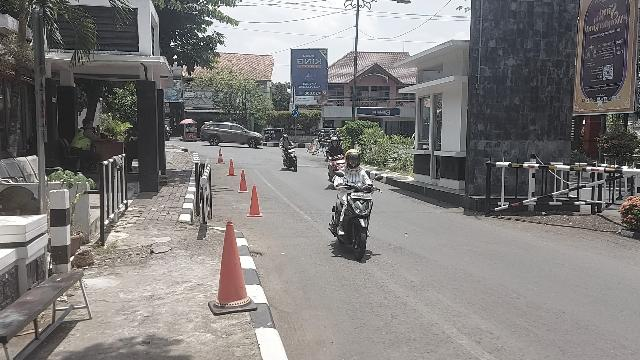helm: (346, 150, 363, 169), (331, 137, 340, 147), (283, 135, 289, 142)
motor: (327, 171, 385, 263), (326, 151, 347, 187), (281, 142, 299, 172)
